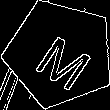M_NE: (25, 21, 94, 88)
